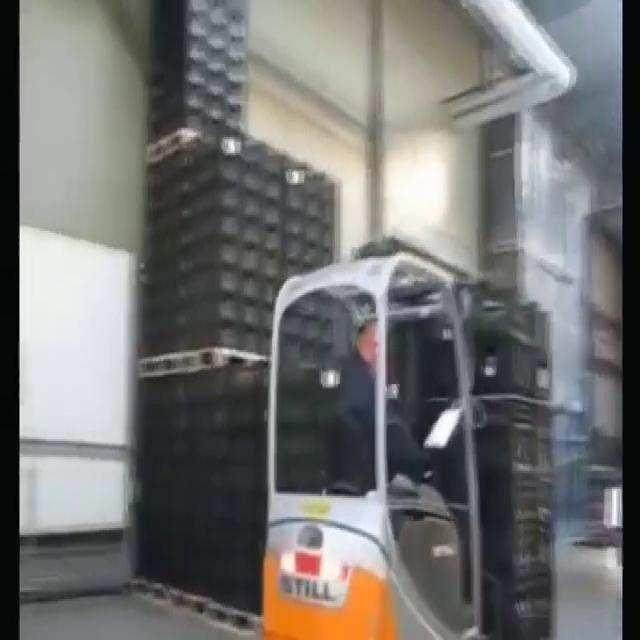Chariot elevateur: (262, 240, 498, 640)
